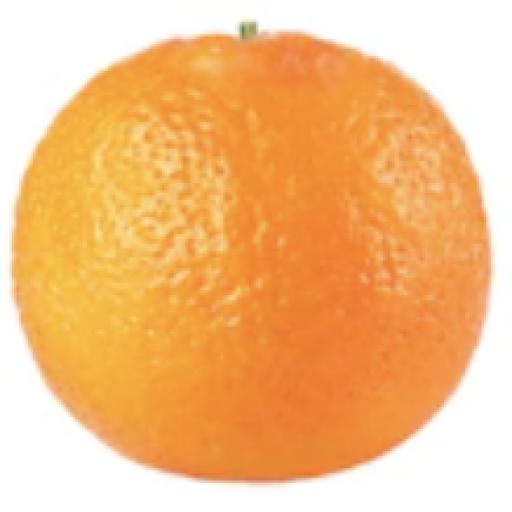orange: (15, 35, 490, 480)
